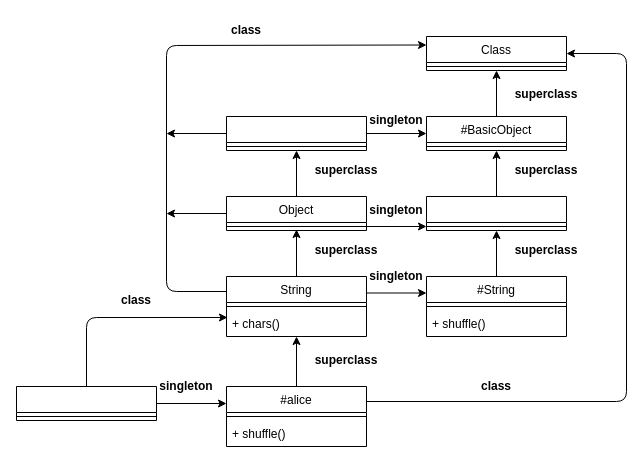
Image size: 643x463. Some labels were removed from this diagram. Here are the shapes that lost their labels. From the top down, the box of each, then its label:
(226, 116, 366, 150): BasicObject
(426, 196, 566, 230): #Object
(16, 386, 156, 420): alice
